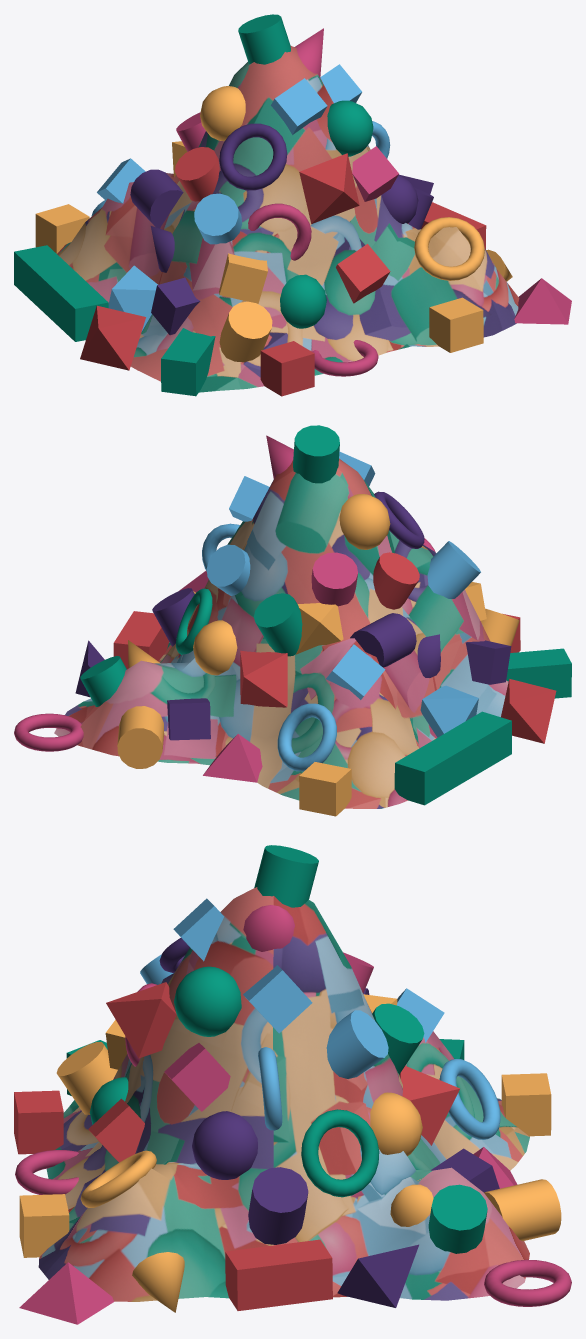
The model's file is pile_large_2.glb.
The picture shows the model from 3 angles, top to bottom: view 1: azimuth 30°, elevation 25°; view 2: azimuth 150°, elevation 25°; view 3: azimuth 270°, elevation 25°; orthographic projection. The views are drawn at different scales.
Parts seen in each view (by area): view 1: pile_large_2; view 2: pile_large_2; view 3: pile_large_2.
Part boxes in pixels (x1=…): pile_large_2: x1=14, y1=14, x2=571, y2=396; pile_large_2: x1=14, y1=425, x2=571, y2=816; pile_large_2: x1=14, y1=845, x2=571, y2=1324.
Size of the model in its own units: 17.43 by 10.73 by 15.84.
Materials: 7 (1 with a texture image).
